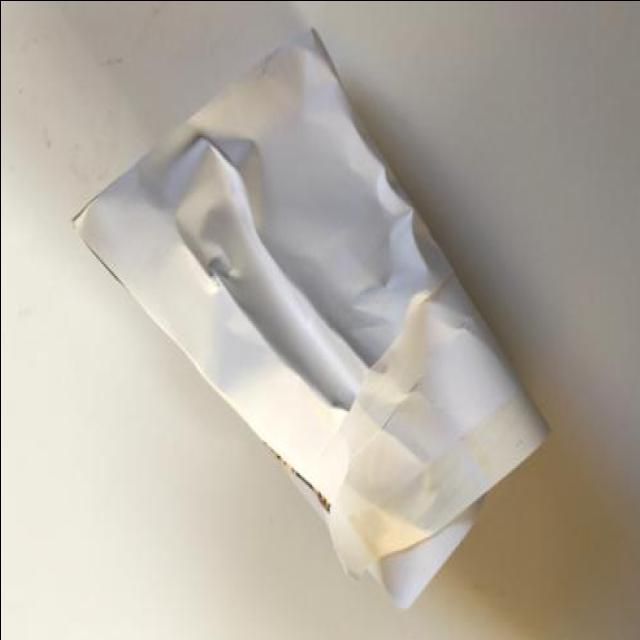kertas: (70, 17, 553, 608)
